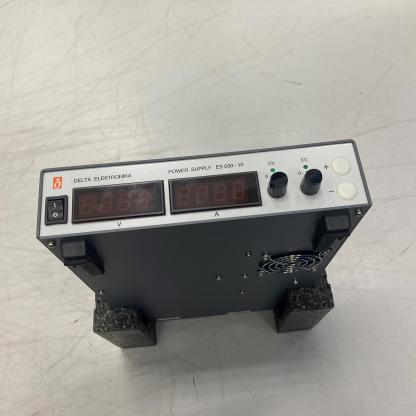SP0000005: (0, 131, 415, 415)
